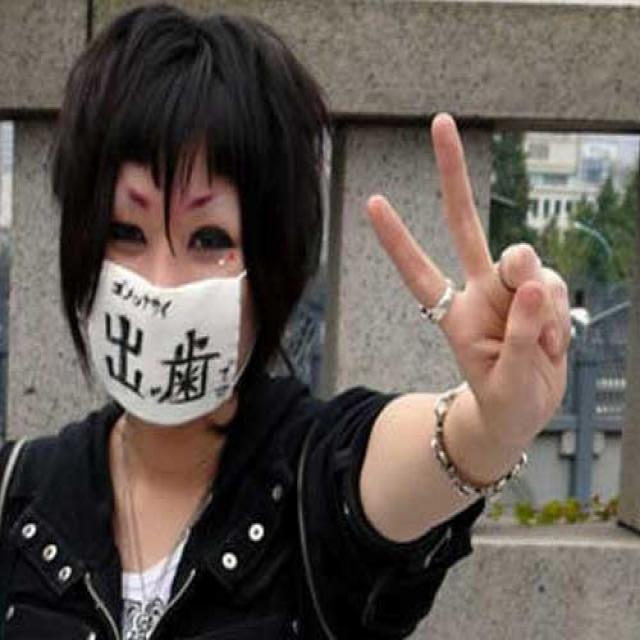mask: (71, 112, 264, 416)
